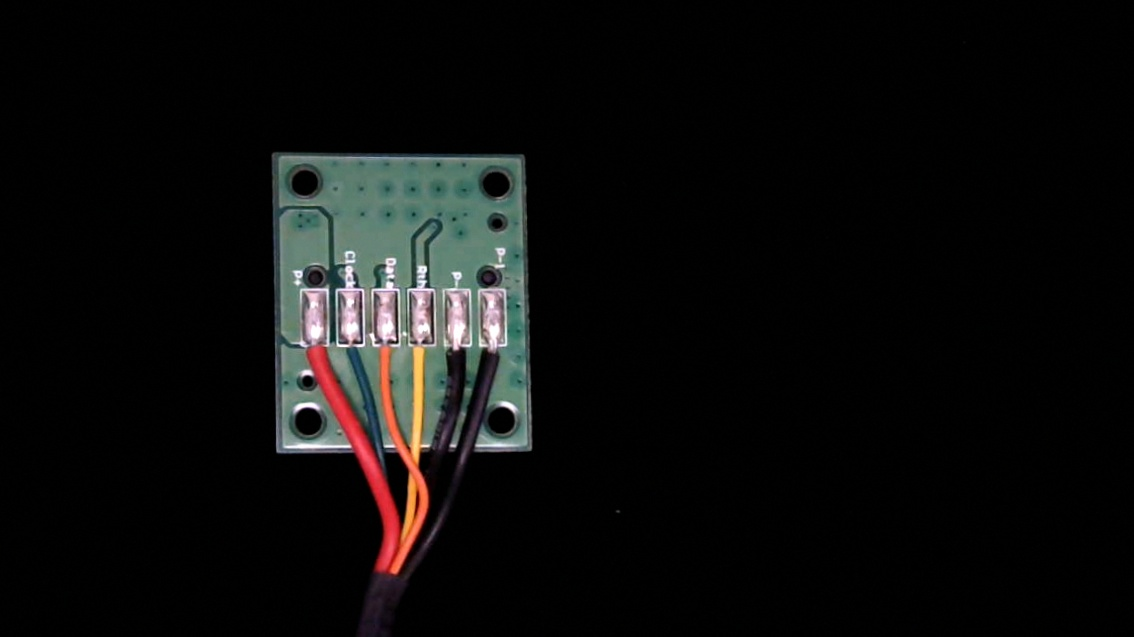Black: (440, 331, 472, 392)
Black1: (481, 331, 509, 387)
Green: (334, 328, 366, 392)
Orange: (371, 329, 402, 394)
Red: (300, 330, 332, 394)
Yellow: (406, 329, 436, 386)
